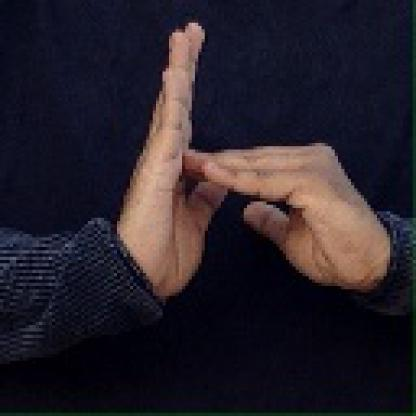Z: (111, 17, 376, 296)
